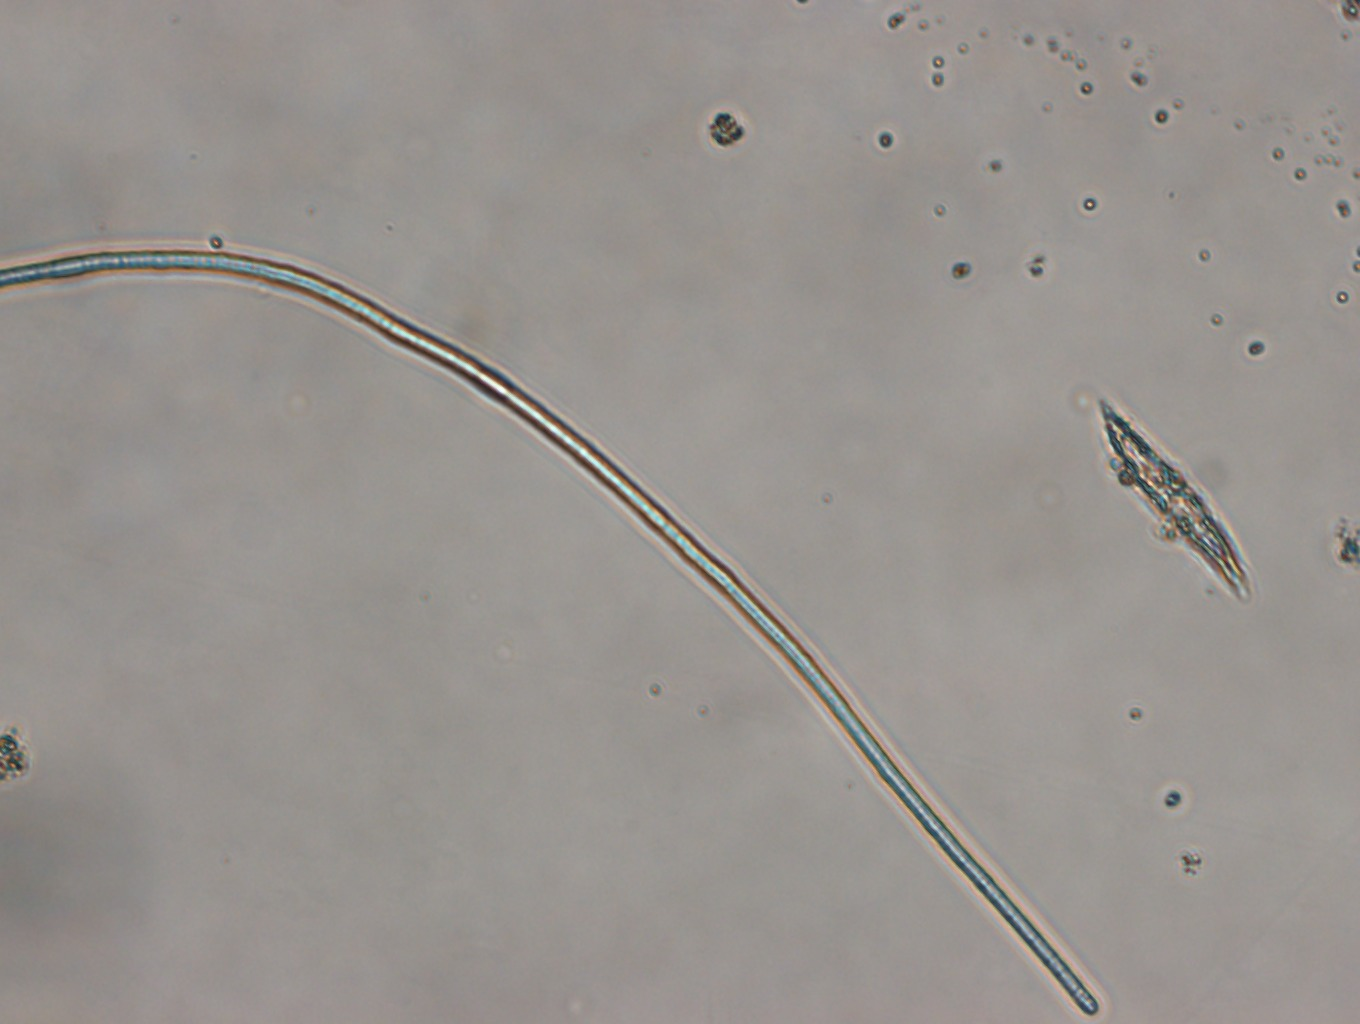pleurosigma pelagicum: (1094, 395, 1254, 605)
